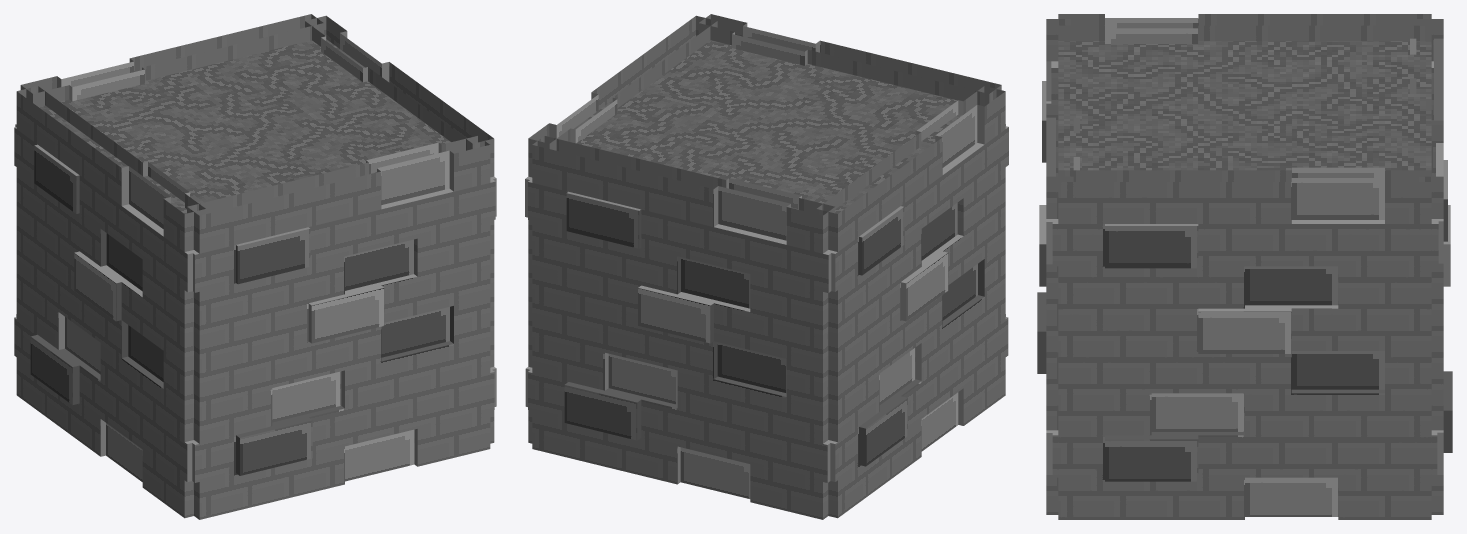
3 renders of one model, left to right at view 1: azimuth 30°, elevation 25°; view 2: azimuth 150°, elevation 25°; view 3: azimuth 270°, elevation 25°, orthographic. The views are drawn at different scales.
Parts seen in each view (by area): view 1: 4W-col; view 2: 4W-col; view 3: 4W-col.
Part boxes in pixels (left/top/right/bottom): 4W-col: left=14, top=14, right=496, bottom=519; 4W-col: left=525, top=14, right=1008, bottom=519; 4W-col: left=1037, top=14, right=1452, bottom=519.
Bounding box in the file's own units: 2.23 × 2 × 2.23.
3 materials, 3 textured.
